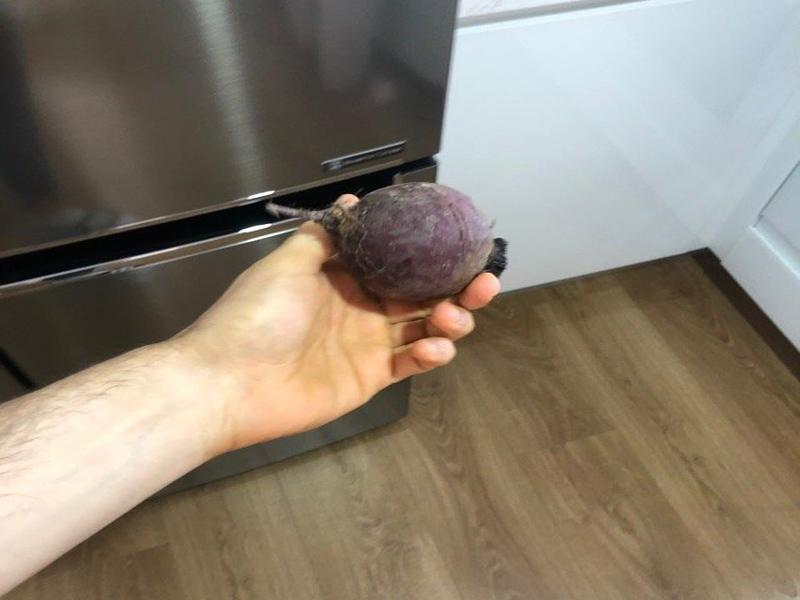Beet: (269, 184, 509, 297)
